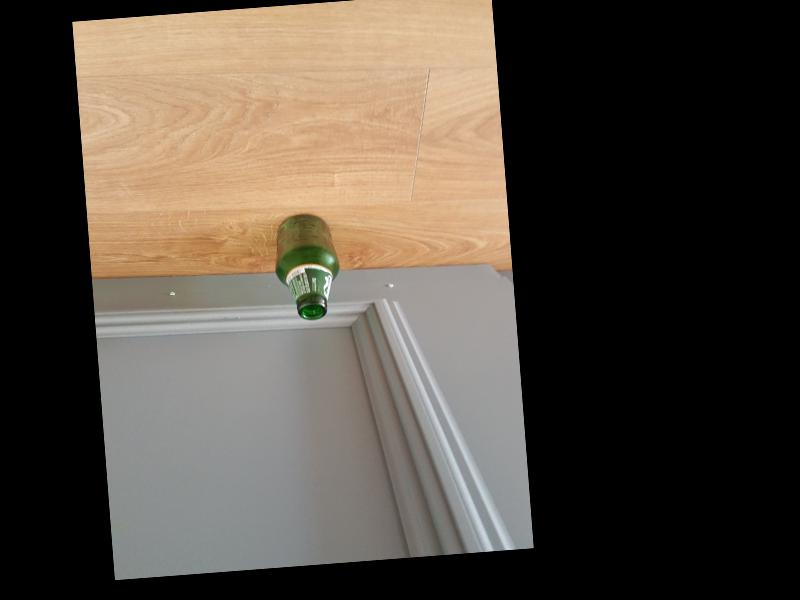Beer: (271, 211, 343, 322)
